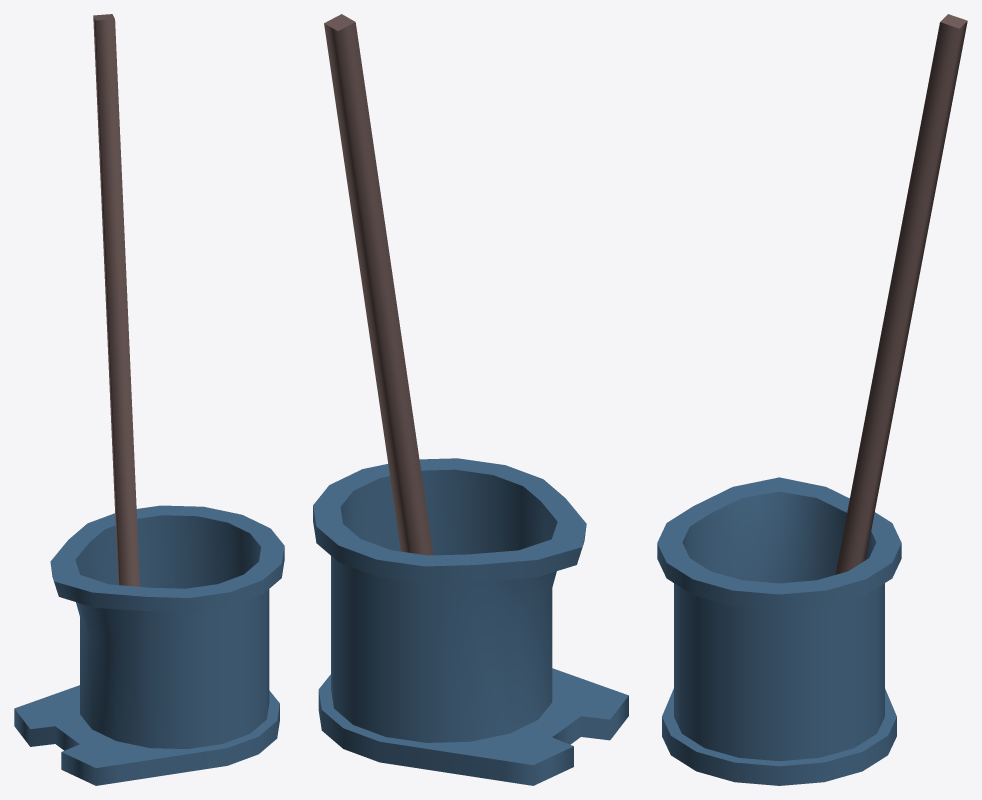
Rendered from MopBucket.fbx.
The picture shows the model from 3 angles, left to right: view 1: azimuth 30°, elevation 25°; view 2: azimuth 150°, elevation 25°; view 3: azimuth 270°, elevation 25°; orthographic projection. The views are drawn at different scales.
Visible parts, largest first — view 1: Mop Bucket, Mob; view 2: Mop Bucket, Mob; view 3: Mop Bucket, Mob.
Part boxes in pixels (x1,y1,x2,y2): Mop Bucket: (14, 505, 284, 785); Mob: (93, 14, 139, 586); Mop Bucket: (313, 458, 628, 785); Mob: (324, 14, 433, 555); Mop Bucket: (657, 477, 901, 785); Mob: (835, 14, 967, 574).
Bounding box in the file's own units: 36.68 × 102 × 39.62.
